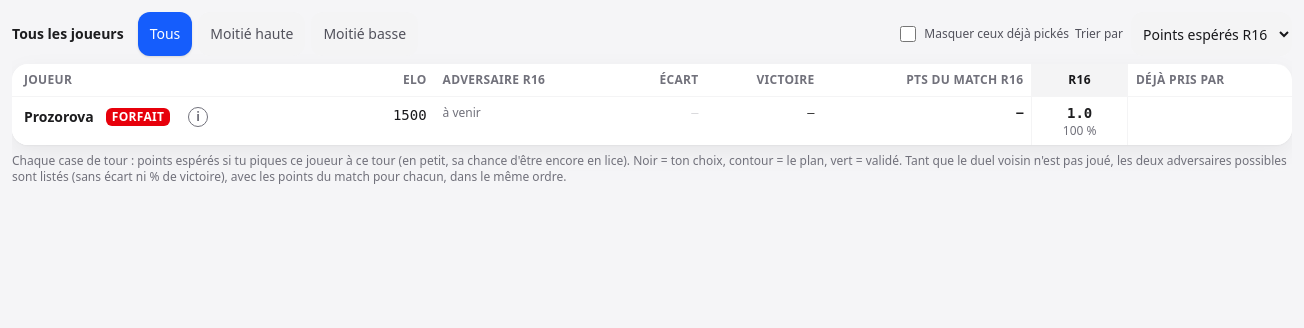
Test: grand tableau + insights › ouvrir le détail ne réserve pas le joueur, et seules les URL http(s) sont des liens
The image size is (1304, 328).
Click the button named "Infos sur Prozorova" at (198, 117), box [176, 95, 220, 139]
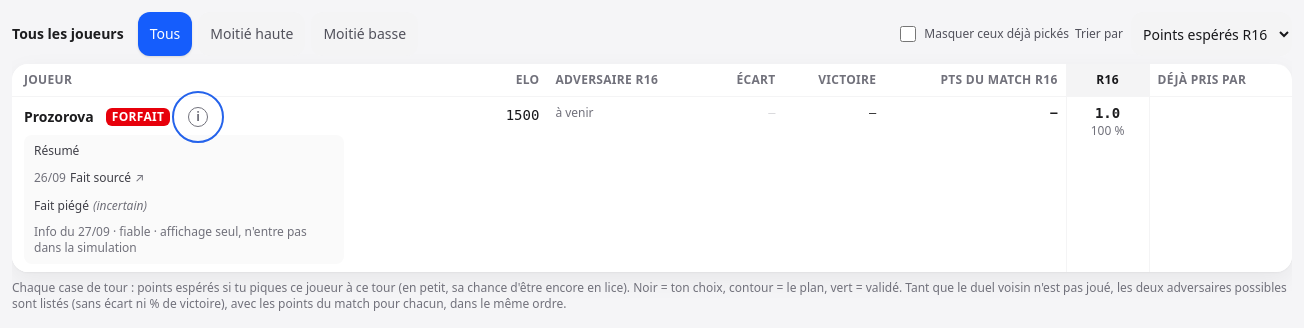
Check: the text "Résumé" is shown, box [34, 142, 79, 159]
Check: the number of links is 1, box [34, 168, 144, 186]
Check: the text "Fait piégé" is shown, box [34, 196, 89, 214]
